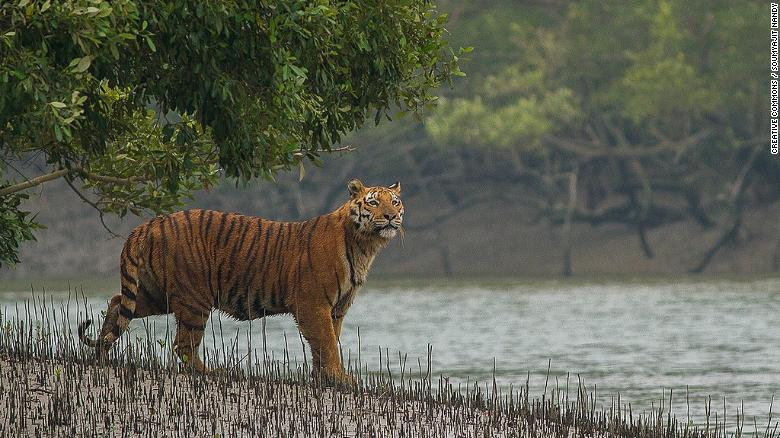Tigrew: (72, 168, 418, 403)
